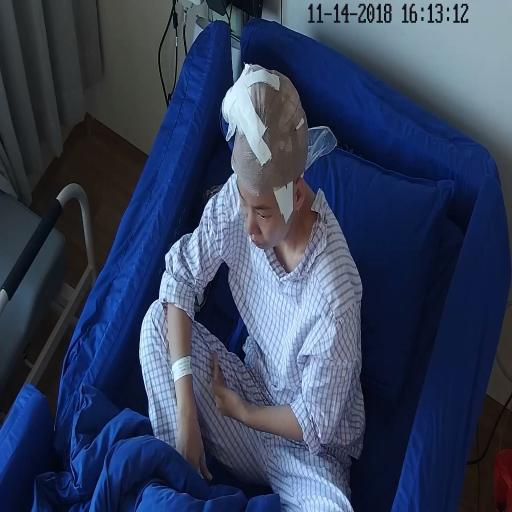Seizure: (223, 108, 306, 254)
